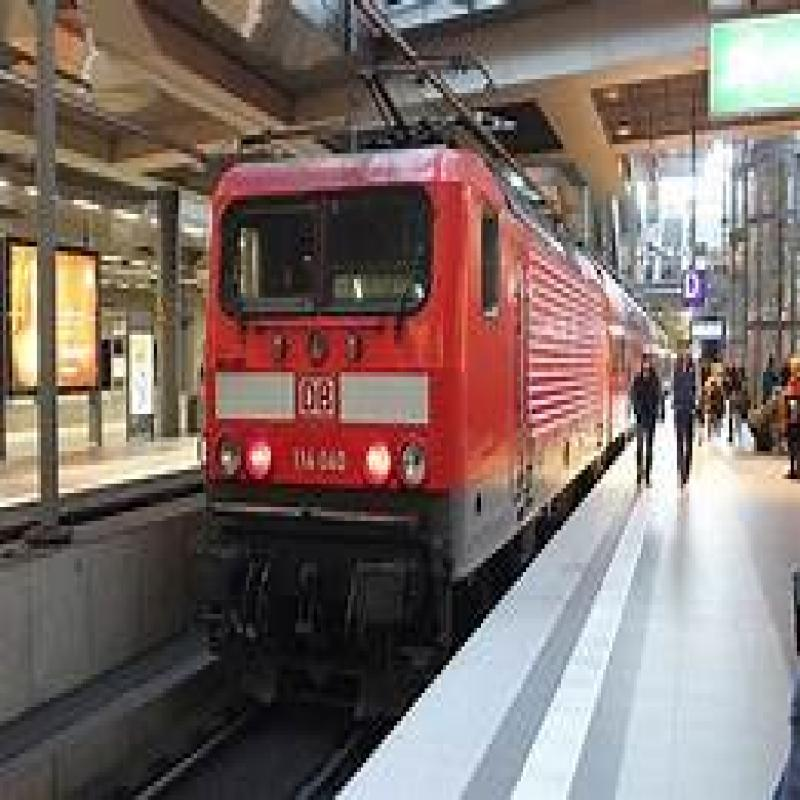train: (189, 113, 536, 652)
